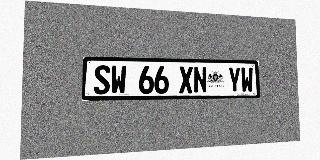6: (139, 66, 154, 94), (154, 66, 169, 94)
N: (193, 66, 207, 93)
S: (94, 65, 110, 94)
W: (111, 65, 126, 94), (241, 67, 254, 93)
X: (179, 66, 193, 93)
Y: (228, 67, 241, 93)
